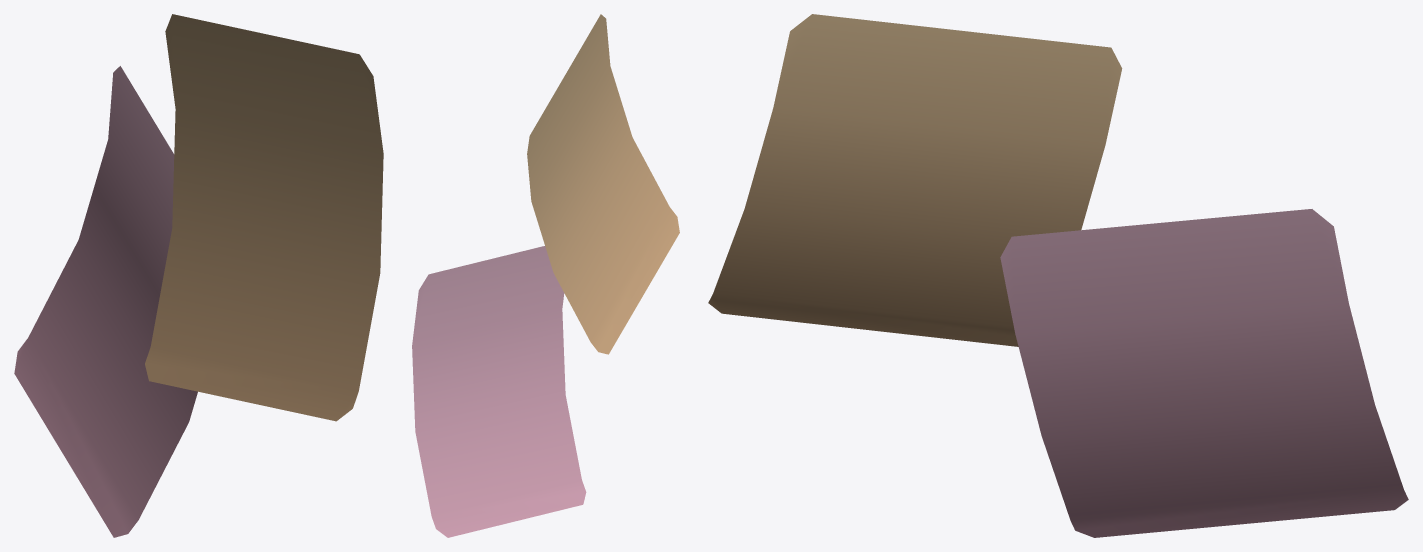
Rendered from sticky-notes (%wall).glb.
3 views of the same model, side by side, from view 1: azimuth 30°, elevation 25°; view 2: azimuth 150°, elevation 25°; view 3: azimuth 270°, elevation 25° (orthographic). The views are drawn at different scales.
Visible parts, largest first — view 1: sticky-notes (%wall); view 2: sticky-notes (%wall); view 3: sticky-notes (%wall).
Part boxes in pixels (x1,y1,x2,y2): sticky-notes (%wall): (14, 14, 383, 537); sticky-notes (%wall): (412, 14, 679, 537); sticky-notes (%wall): (708, 14, 1408, 537).
Bounding box in the file's own units: 0.0327 × 0.1495 × 0.1635.
